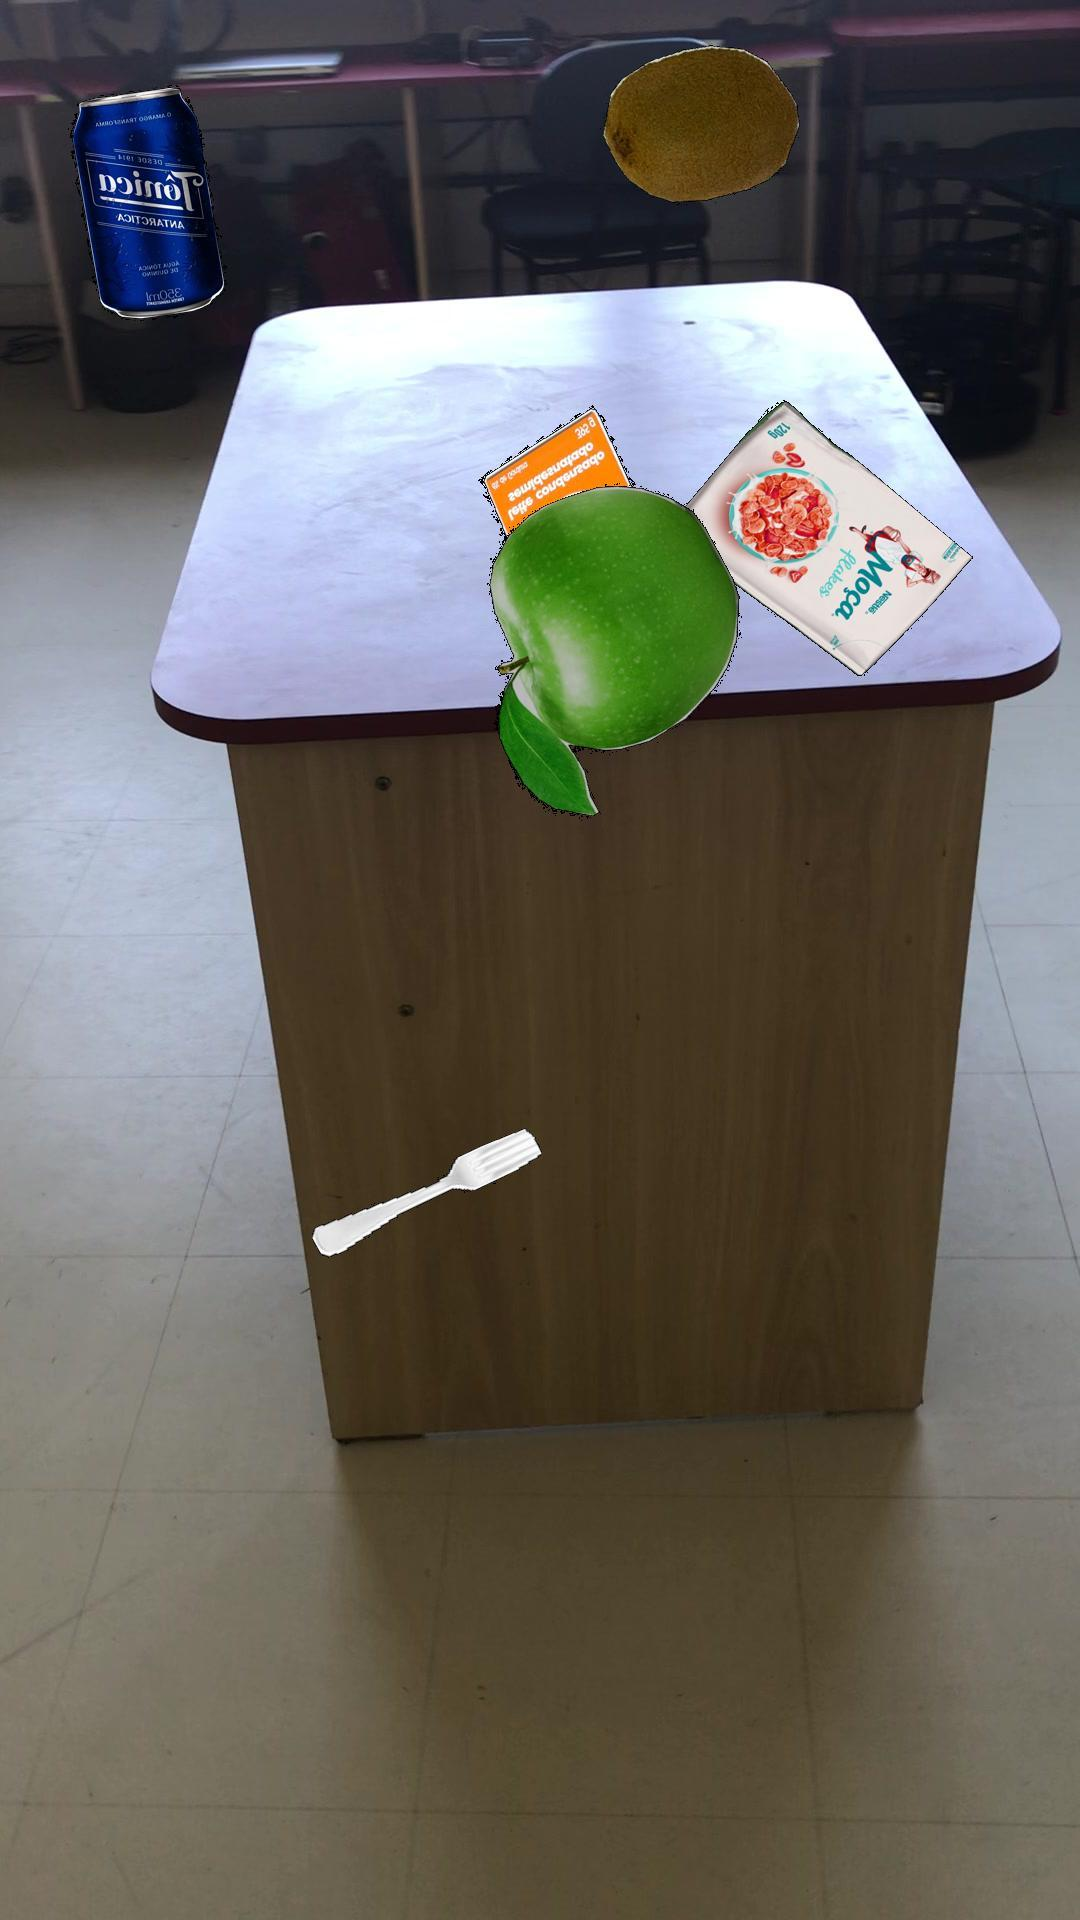corn flakes: (683, 398, 972, 674)
fork: (310, 1126, 541, 1257)
green apple: (488, 483, 738, 818)
kiwi: (601, 44, 799, 202)
tonic: (69, 84, 225, 318)
